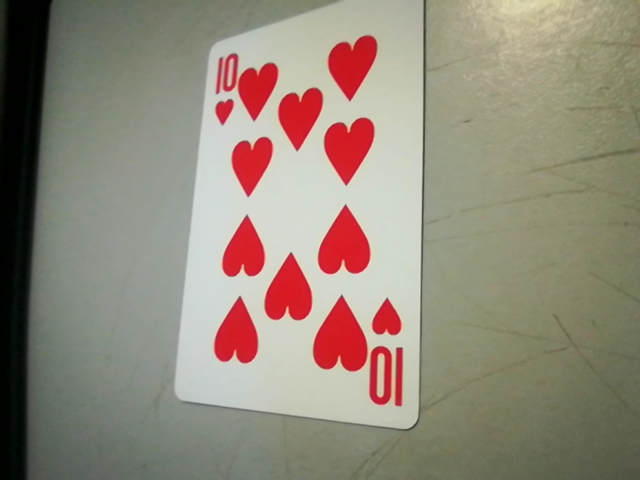hx 10: (365, 297, 417, 417)
